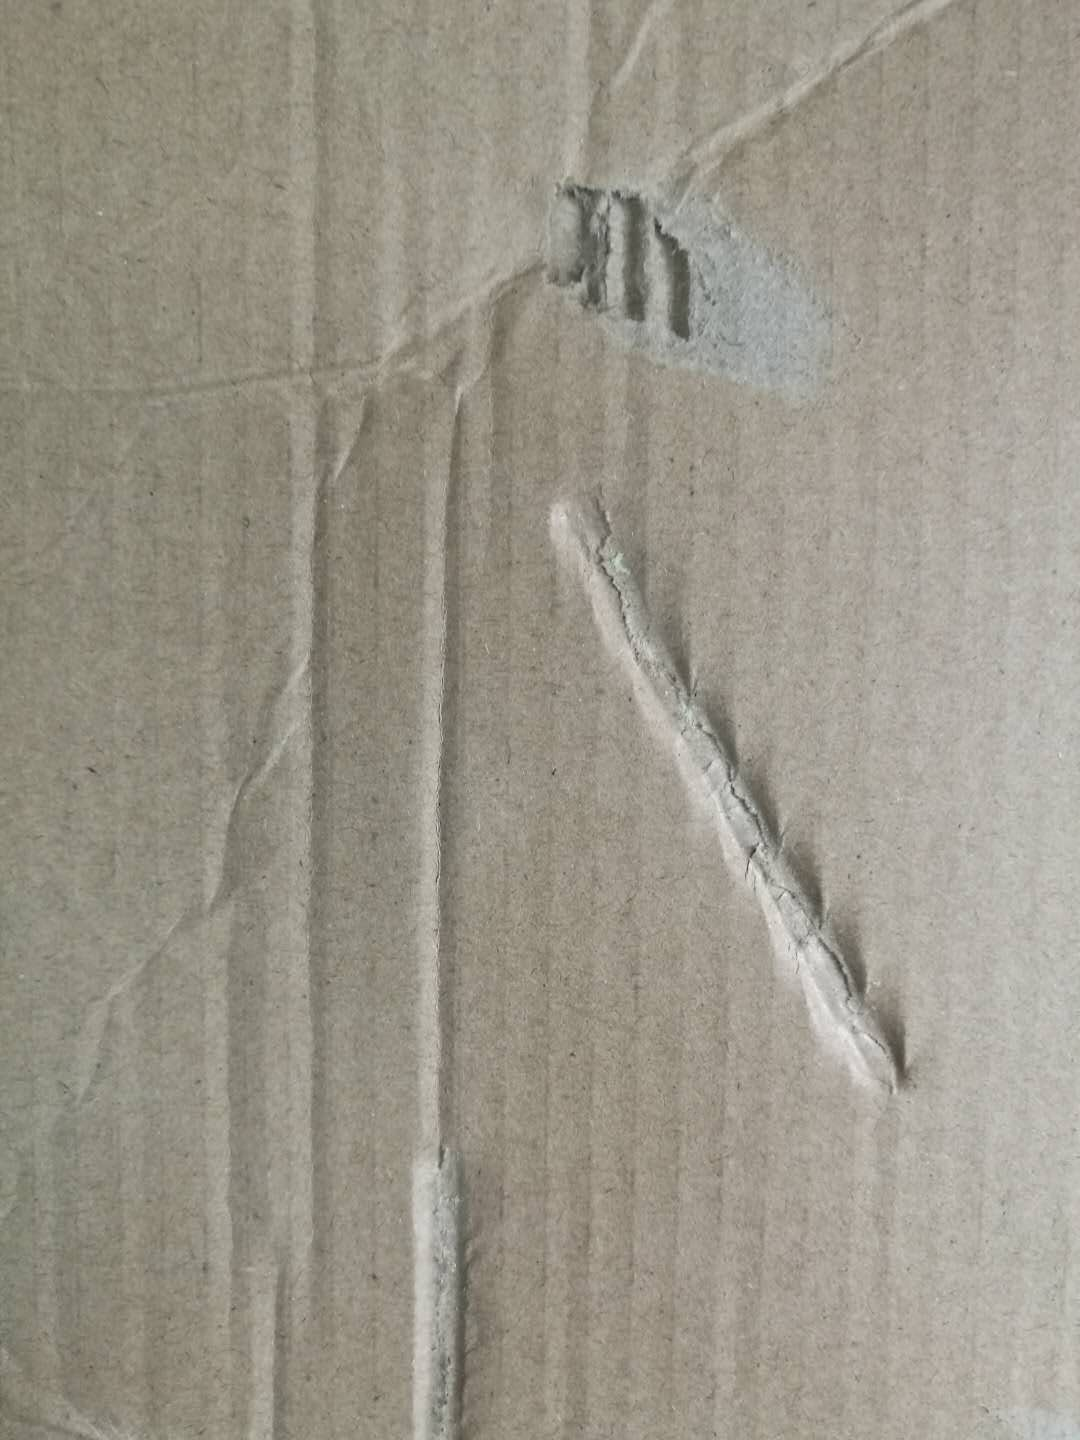defect: (5, 7, 974, 1440), (522, 473, 971, 1115), (525, 158, 868, 430), (379, 1141, 496, 1440)
